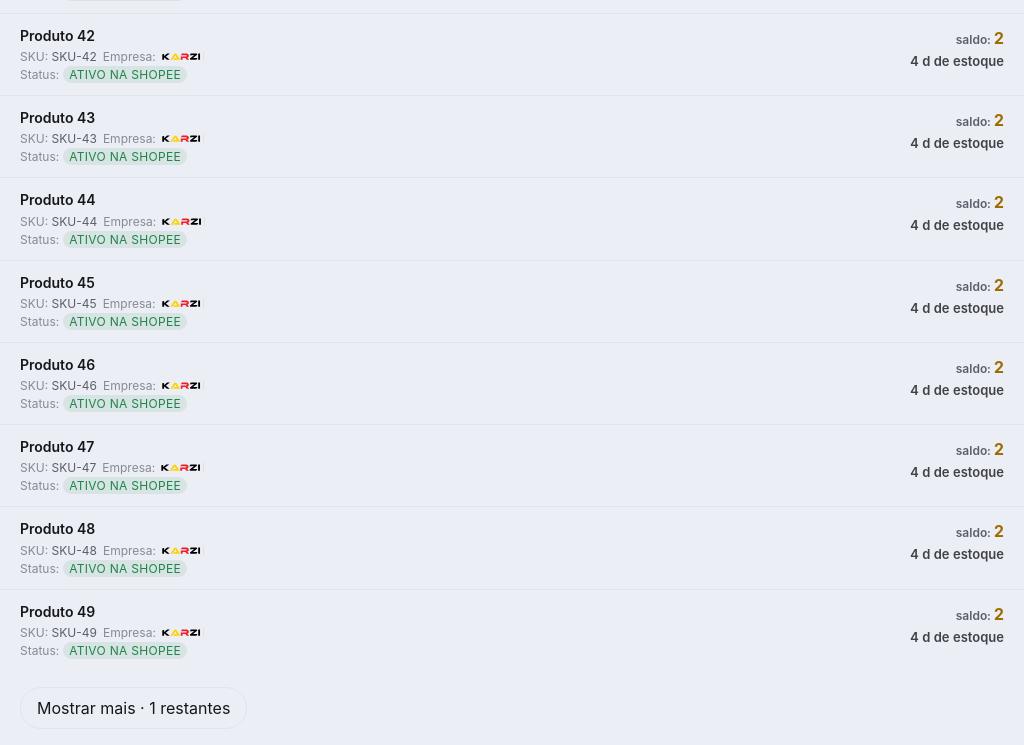
Test: lista completa na mesma classificação de Métricas › mostra todos os itens sem navegar para outra régua de estoque
This screenshot has width=1024, height=745.
(page scrolled)
Expected: the text "Produto 50" is not shown
What coordinates should you click on to do the following:
click the button "Mostrar mais · 1 restantes"
I would click on:
 (134, 708)
Its box is [20,687,247,729].
(page scrolled)
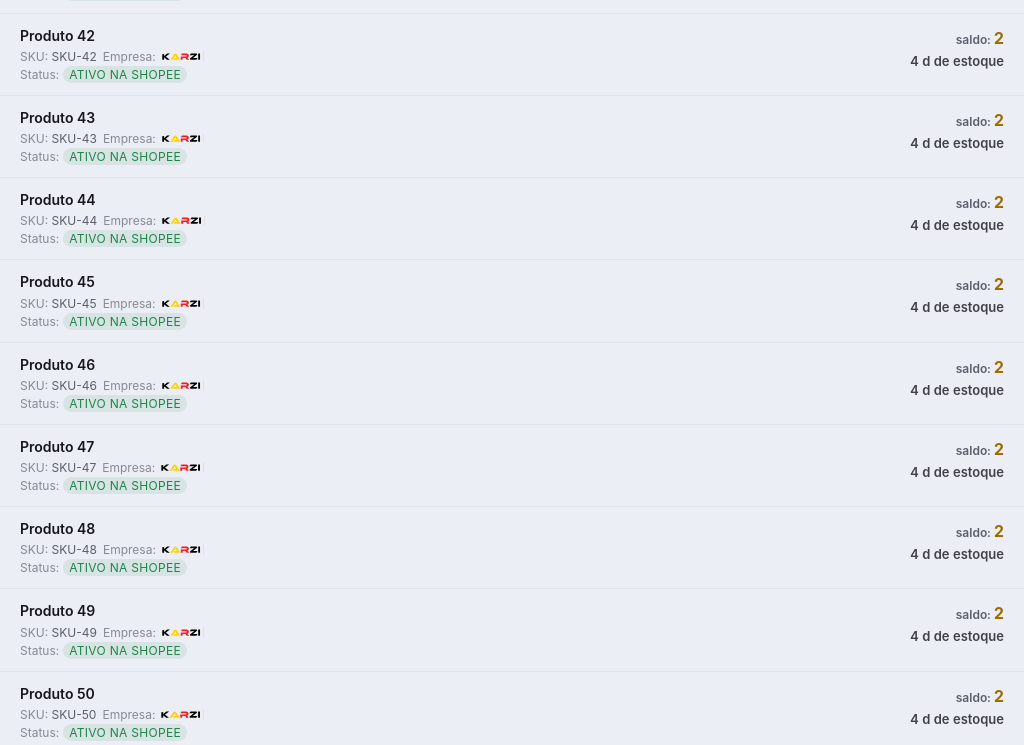
Now the text "Produto 50" is shown, box [20,684,95,702]
Now the button "Mostrar mais" is gone
